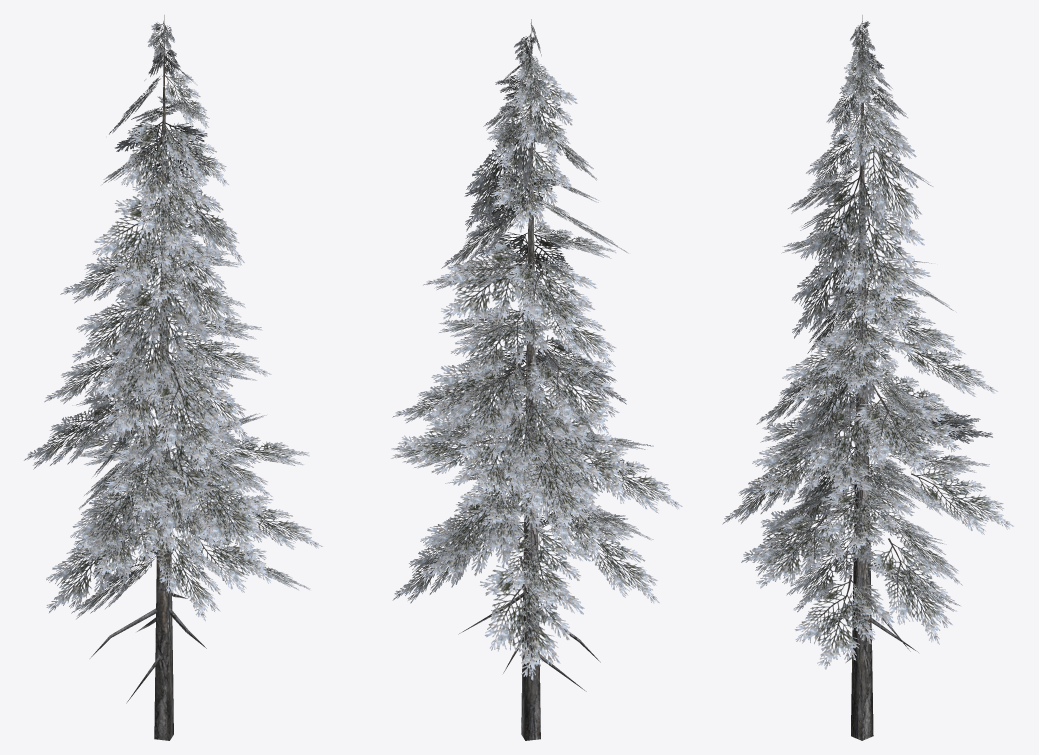
Rendered from SC_bingfengyiji_04.FBX.
3 renders of one model, left to right at view 1: azimuth 30°, elevation 25°; view 2: azimuth 150°, elevation 25°; view 3: azimuth 270°, elevation 25°, orthographic.
Visible parts, largest first — view 1: SC_bingfengyiji_04; view 2: SC_bingfengyiji_04; view 3: SC_bingfengyiji_04.
Part boxes in pixels (<box>): SC_bingfengyiji_04: <box>24,15,322,740</box>; SC_bingfengyiji_04: <box>391,19,682,740</box>; SC_bingfengyiji_04: <box>722,15,1013,740</box>.
Bounding box in the file's own units: 475 × 1187 × 464.
